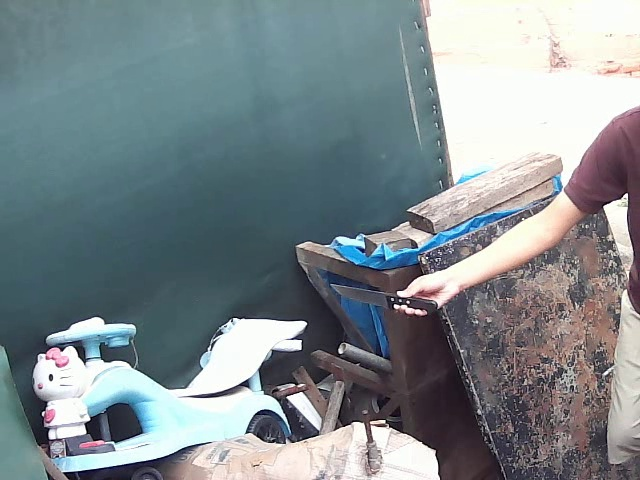cuchillo: (327, 281, 426, 320)
